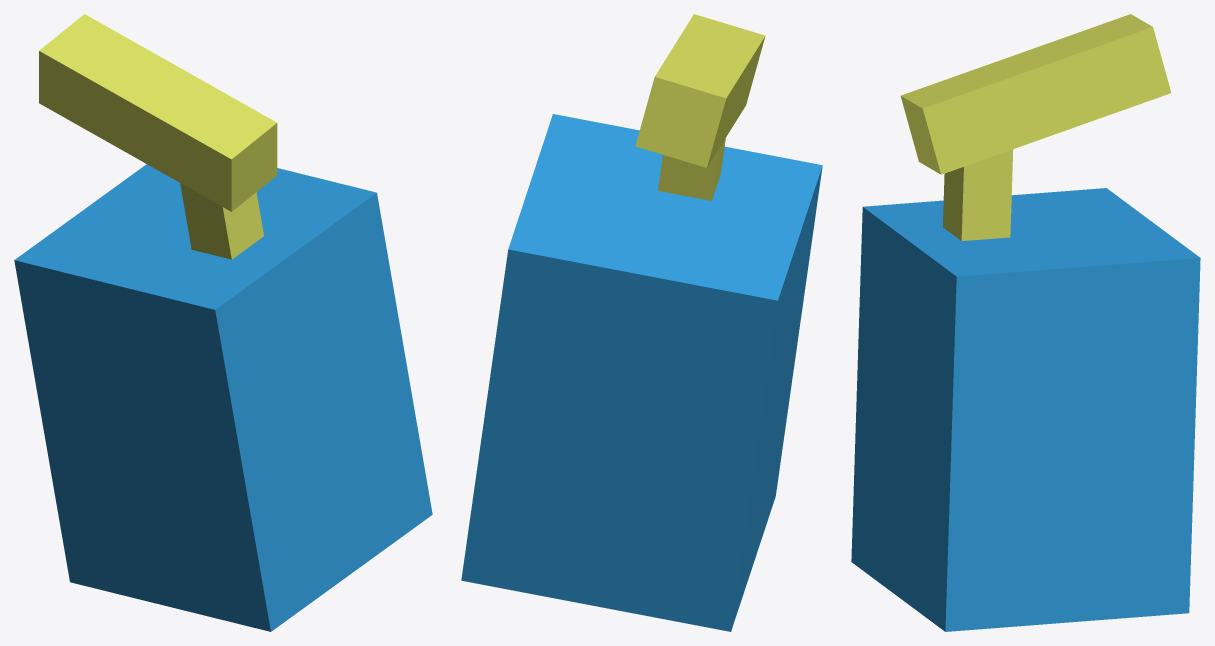
Rendered from sanitizer.glb.
3 renders of one model, left to right at view 1: azimuth 30°, elevation 25°; view 2: azimuth 150°, elevation 25°; view 3: azimuth 270°, elevation 25°, orthographic. The views are drawn at different scales.
Visible parts, largest first — view 1: Cylinder, Cylinder.002, Cylinder.001; view 2: Cylinder, Cylinder.002, Cylinder.001; view 3: Cylinder, Cylinder.002, Cylinder.001.
Boxes of the visible parts, bbox=[...] form: Cylinder: bbox=[14, 164, 432, 631]; Cylinder.002: bbox=[39, 14, 277, 211]; Cylinder.001: bbox=[180, 183, 263, 259]; Cylinder: bbox=[461, 114, 822, 631]; Cylinder.002: bbox=[635, 14, 765, 167]; Cylinder.001: bbox=[658, 138, 725, 200]; Cylinder: bbox=[851, 188, 1200, 631]; Cylinder.002: bbox=[900, 14, 1171, 174]; Cylinder.001: bbox=[943, 149, 1013, 240].
Size of the model in its own units: 2.12 by 3.21 by 1.89.
